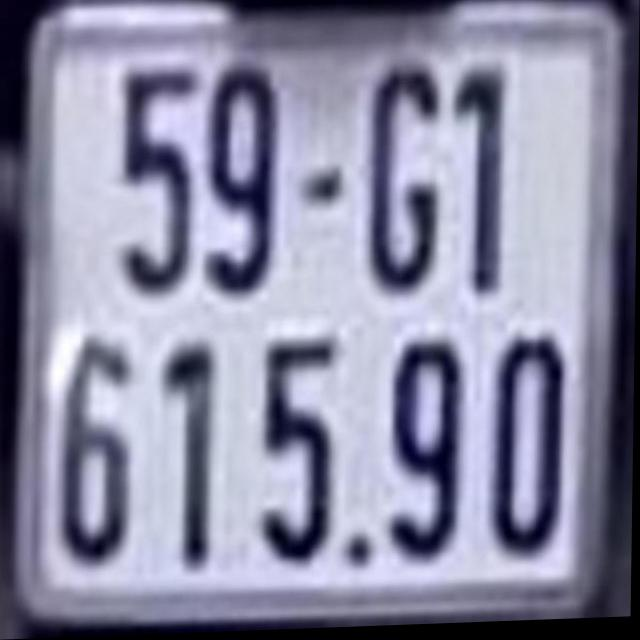0: (500, 335, 565, 566)
1: (164, 333, 218, 570), (458, 63, 505, 296)
5: (260, 337, 337, 568), (121, 61, 194, 292)
6: (62, 331, 135, 560)
9: (392, 338, 464, 567), (212, 67, 275, 297)
G: (375, 65, 443, 290)
